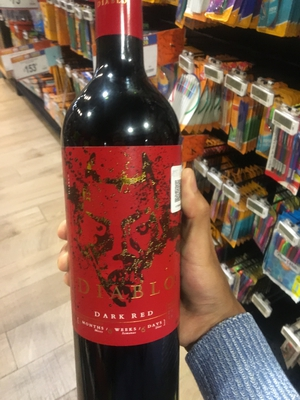diablo dark red: (58, 12, 190, 400)
